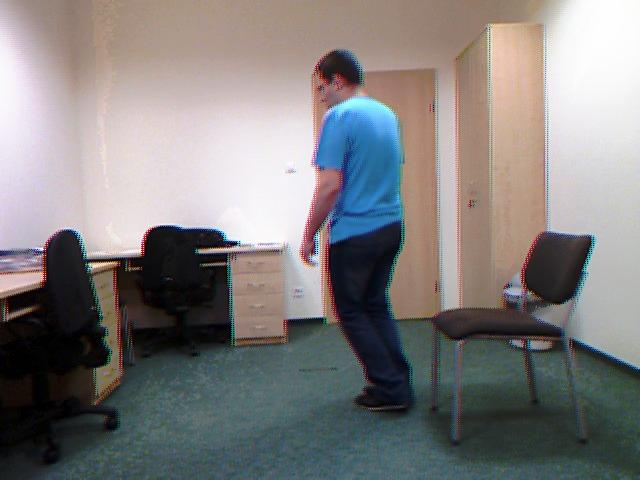standing: (297, 44, 423, 427)
